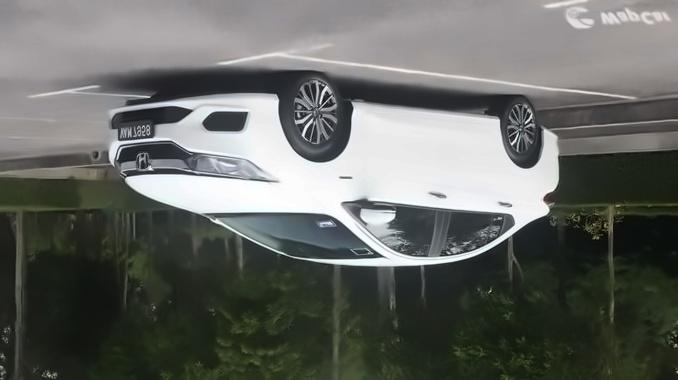Car hood: (123, 174, 335, 215)
Driver-s door - -F-R-: (338, 89, 454, 264)
Fender - -F-R-: (269, 109, 363, 204)
Fender - -R-R-: (487, 126, 550, 205)
Front bumper: (108, 90, 282, 171), (183, 153, 279, 185)
Passenger-s door - -R-R-: (431, 77, 520, 266)
Rear bumper: (539, 123, 565, 195)
Side bumper - -R-: (350, 79, 503, 148)
Side mirror - -R-: (351, 201, 399, 227)
